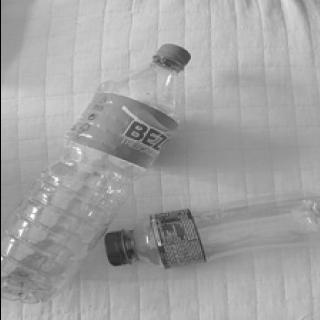plastic_bottles: (1, 41, 190, 307), (98, 188, 320, 272)
